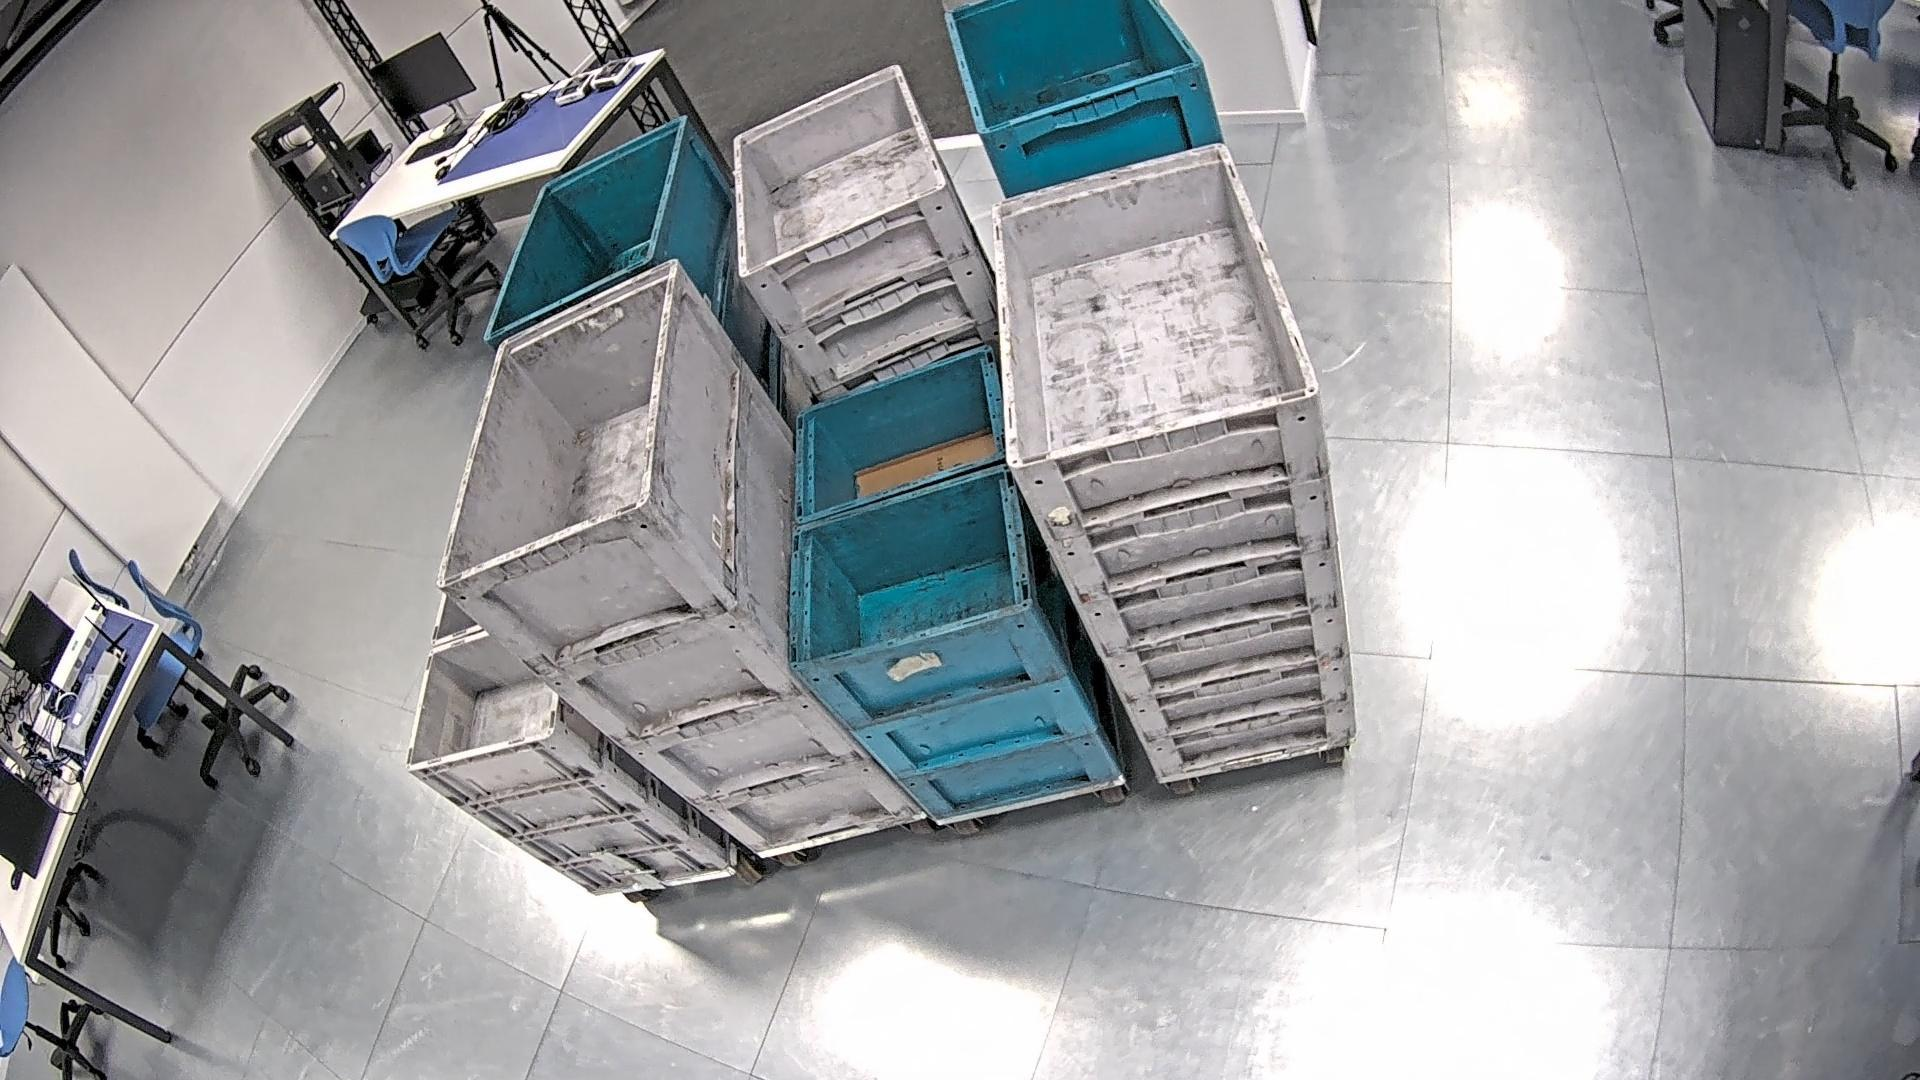Box3G: (986, 140, 1360, 790), (727, 57, 1048, 542)
Box4G: (430, 251, 934, 864)
Box8G: (402, 530, 758, 899)
BoxB4: (942, 0, 1261, 618), (480, 105, 839, 556)
BoxB8: (783, 347, 1131, 825)
